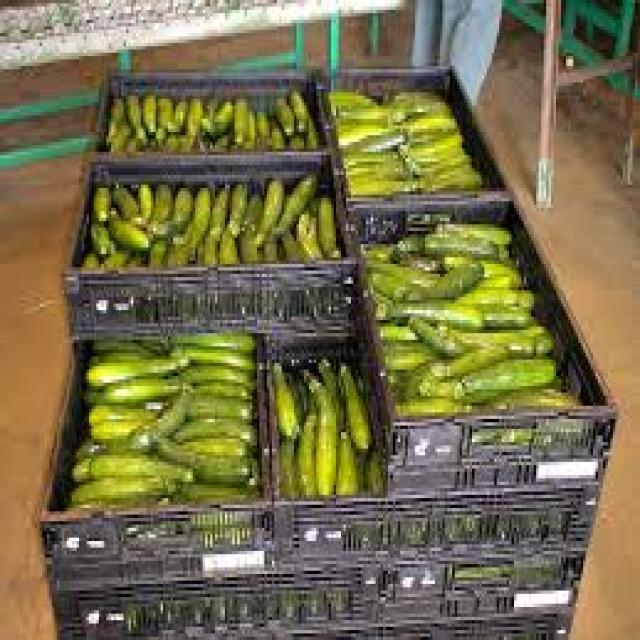basket: (41, 148, 601, 637), (39, 409, 619, 640), (343, 137, 615, 471), (101, 73, 326, 155), (437, 74, 509, 194), (336, 66, 452, 102)
